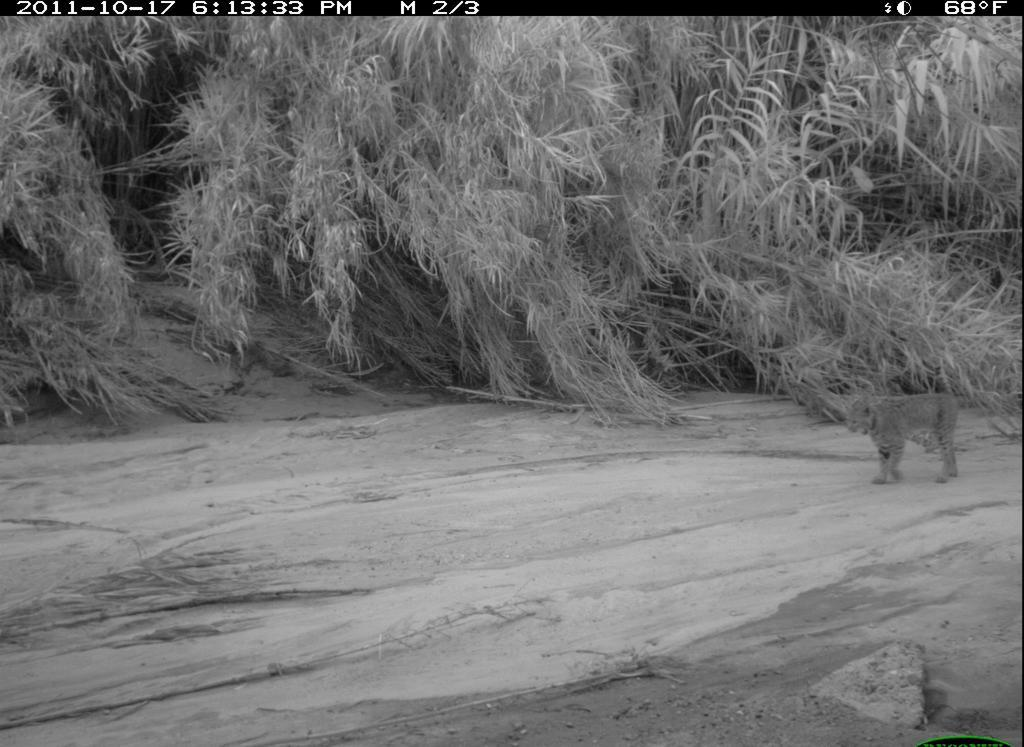bobcat: (812, 360, 975, 483)
